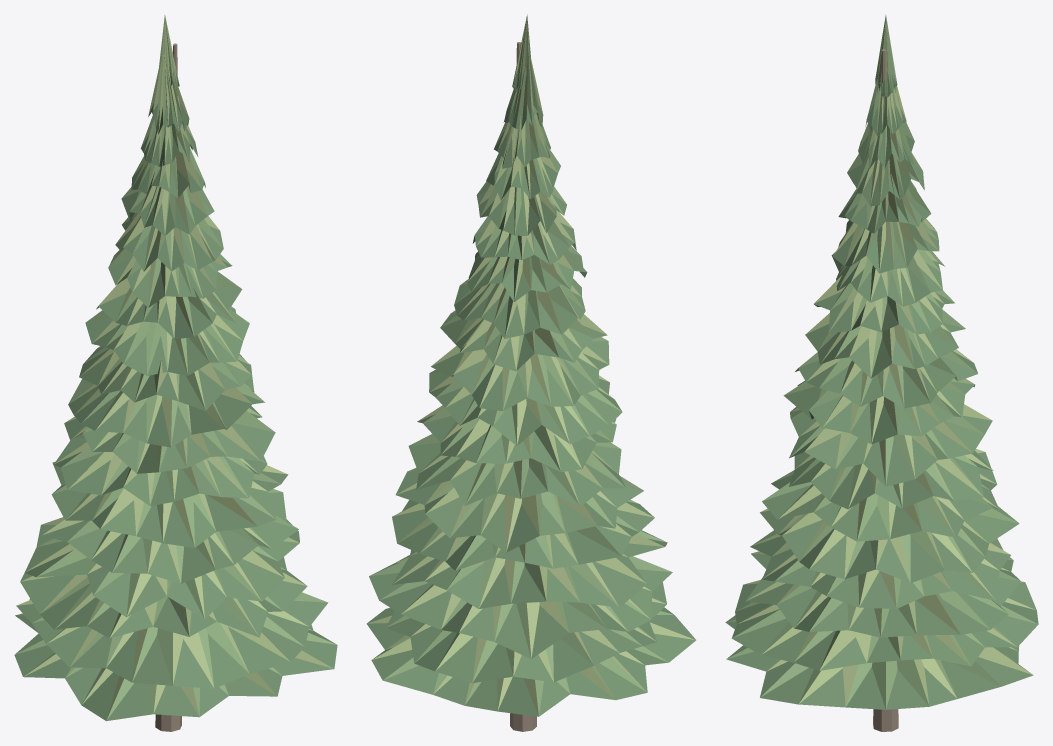
Rendered from FirRefined.fbx.
The picture shows the model from 3 angles, left to right: view 1: azimuth 30°, elevation 25°; view 2: azimuth 150°, elevation 25°; view 3: azimuth 270°, elevation 25°; orthographic projection.
Visible parts, largest first — view 1: Rigid.001; view 2: Rigid.001; view 3: Rigid.001.
Part boxes in pixels (box(x1,y1,x2,y2)): Rigid.001: box(14, 15, 337, 731); Rigid.001: box(366, 14, 696, 731); Rigid.001: box(725, 15, 1038, 731).
Bounding box in the file's own units: 4.4 × 10.99 × 4.39.
